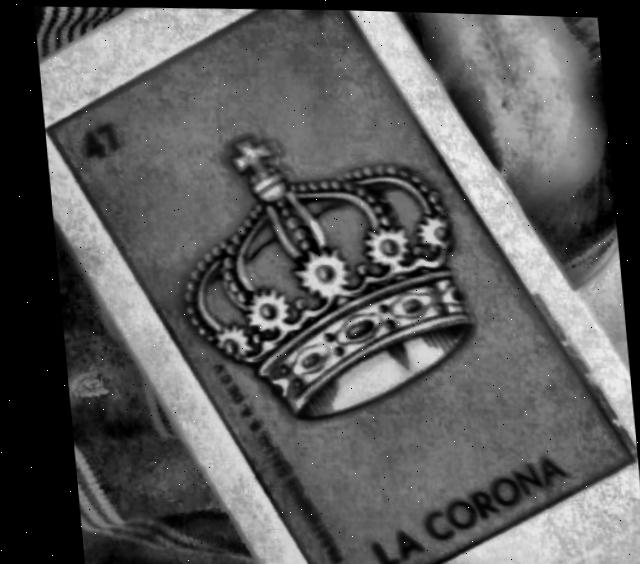La Corona: (49, 7, 623, 564)
